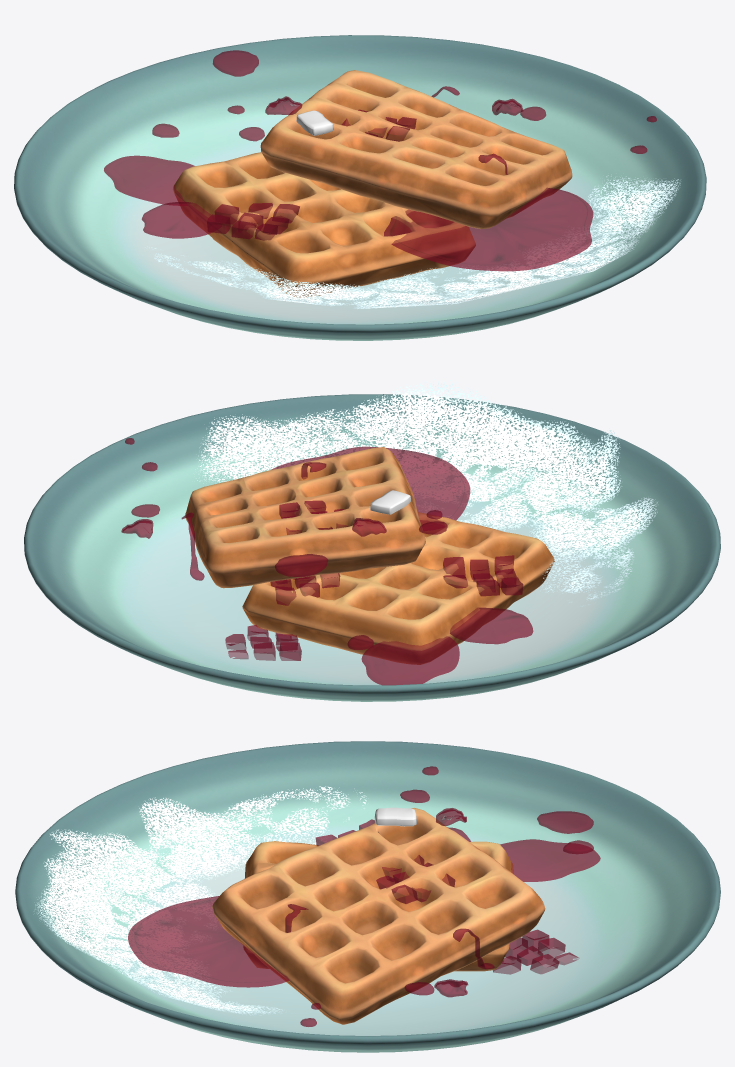
The model's file is 1773207150_cus.glb.
The picture shows the model from 3 angles, top to bottom: view 1: azimuth 30°, elevation 25°; view 2: azimuth 150°, elevation 25°; view 3: azimuth 270°, elevation 25°; orthographic projection.
Visible parts, largest first — view 1: Circle_3, waffle2_4, waffle1_0, Circle.002_9, pCylinder7, pCylinder14, polySurface11, pCylinder15_syrup_0, pCylinder8, polySurface13, pCube17; view 2: Circle_3, Circle.002_9, waffle1_0, waffle2_4, pCylinder7, pCylinder14, pCylinder15_syrup_0, polySurface11, polySurface12, polySurface15, pCylinder8, polySurface13 (+1 smaller); view 3: Circle_3, waffle2_4, Circle.002_9, pCylinder7, pCylinder14, waffle1_0, polySurface12, polySurface13, pCylinder8, pCube17.
Part boxes in pixels (<box>): Circle_3: <box>14,35,706,340</box>; waffle2_4: <box>260,70,572,228</box>; waffle1_0: <box>173,152,475,297</box>; Circle.002_9: <box>145,174,680,309</box>; pCylinder7: <box>384,188,593,271</box>; pCylinder14: <box>104,155,194,205</box>; polySurface11: <box>207,203,299,240</box>; pCylinder15_syrup_0: <box>142,202,221,238</box>; pCylinder8: <box>213,50,258,76</box>; polySurface13: <box>341,109,416,141</box>; pCube17: <box>296,110,333,135</box>; Circle_3: <box>24,394,720,701</box>; Circle.002_9: <box>195,379,658,606</box>; waffle1_0: <box>242,512,554,664</box>; waffle2_4: <box>185,447,425,588</box>; pCylinder7: <box>271,446,470,530</box>; pCylinder14: <box>361,636,459,685</box>; pCylinder15_syrup_0: <box>450,607,533,644</box>; polySurface11: <box>443,555,523,596</box>; polySurface12: <box>225,625,301,660</box>; polySurface15: <box>270,573,340,605</box>; pCylinder8: <box>275,554,328,577</box>; polySurface13: <box>279,500,348,534</box>; Circle_3: <box>15,741,720,1052</box>; waffle2_4: <box>212,808,545,1024</box>; Circle.002_9: <box>35,786,366,1015</box>; pCylinder7: <box>128,896,289,987</box>; pCylinder14: <box>500,839,600,881</box>; waffle1_0: <box>243,841,513,971</box>; polySurface12: <box>493,929,578,974</box>; polySurface13: <box>376,855,455,903</box>; pCylinder8: <box>537,811,593,833</box>; pCube17: <box>374,807,416,826</box>.
Size of the model in its own units: 7.41 by 1.75 by 7.27.
Materials: 6 (4 with a texture image).
